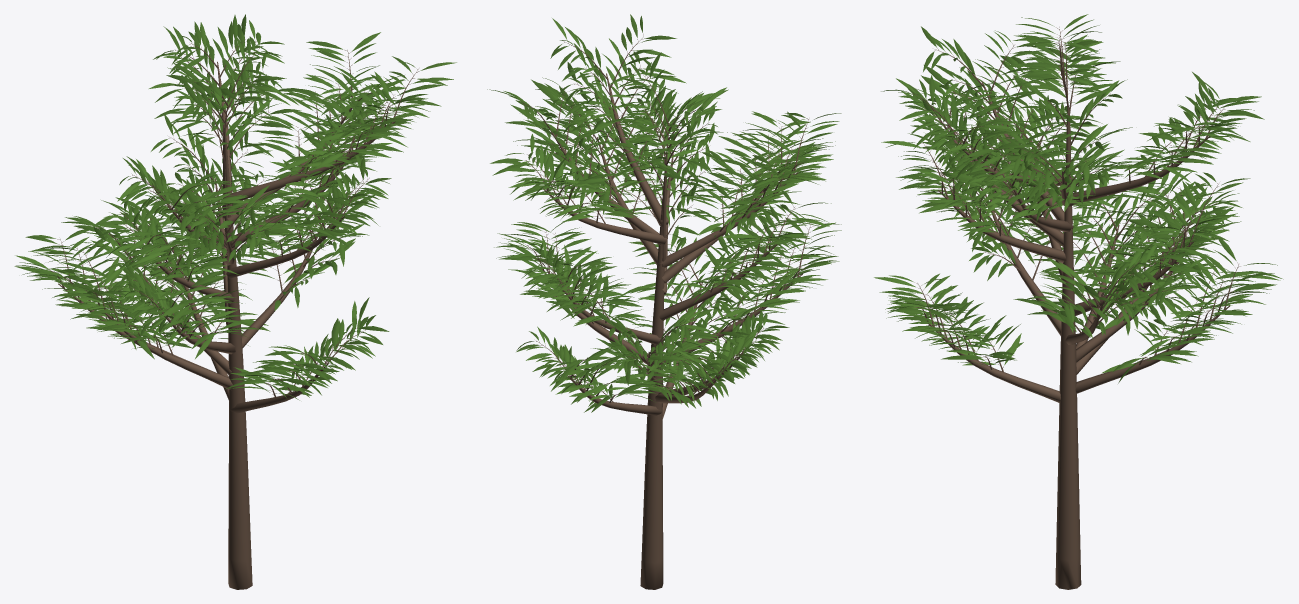
The model's file is narrowleaf.glb.
3 renders of one model, left to right at view 1: azimuth 30°, elevation 25°; view 2: azimuth 150°, elevation 25°; view 3: azimuth 270°, elevation 25°, orthographic. The views are drawn at different scales.
Parts seen in each view (by area): view 1: tree_foliage, tree_twigs, tree_trunk, tree_branch_8, tree_branch_4, tree_branch_3, tree_branch_5, tree_branch_11; view 2: tree_foliage, tree_twigs, tree_trunk, tree_branch_8, tree_branch_2, tree_branch_9, tree_branch_1, tree_branch_15, tree_branch_6, tree_branch_0, tree_branch_10, tree_branch_5; view 3: tree_foliage, tree_twigs, tree_trunk, tree_branch_11, tree_branch_15, tree_branch_3, tree_branch_2, tree_branch_14, tree_branch_7.
Boxes of the visible parts, <box> form: tree_foliage: <box>14,14,456,400</box>; tree_twigs: <box>49,38,418,398</box>; tree_trunk: <box>224,132,252,589</box>; tree_branch_8: <box>225,121,395,204</box>; tree_branch_4: <box>105,313,233,389</box>; tree_branch_3: <box>226,216,344,278</box>; tree_branch_5: <box>241,236,317,348</box>; tree_branch_11: <box>230,364,328,413</box>; tree_foliage: <box>487,14,841,412</box>; tree_twigs: <box>523,34,813,402</box>; tree_trunk: <box>640,159,667,589</box>; tree_branch_8: <box>606,73,668,225</box>; tree_branch_2: <box>543,188,666,244</box>; tree_branch_9: <box>659,244,777,320</box>; tree_branch_1: <box>661,172,798,267</box>; tree_branch_15: <box>567,376,661,415</box>; tree_branch_6: <box>662,190,764,283</box>; tree_branch_0: <box>597,137,661,266</box>; tree_branch_10: <box>560,287,663,344</box>; tree_branch_5: <box>542,269,651,364</box>; tree_foliage: <box>874,14,1283,383</box>; tree_twigs: <box>912,27,1240,371</box>; tree_trunk: <box>1055,109,1081,589</box>; tree_branch_11: <box>926,320,1060,402</box>; tree_branch_15: <box>1075,305,1229,393</box>; tree_branch_3: <box>937,190,1066,262</box>; tree_branch_2: <box>1072,136,1210,204</box>; tree_branch_14: <box>982,188,1061,335</box>; tree_branch_7: <box>1076,256,1182,362</box>.
Bounding box in the file's own units: 2.73 × 4.29 × 2.87.
